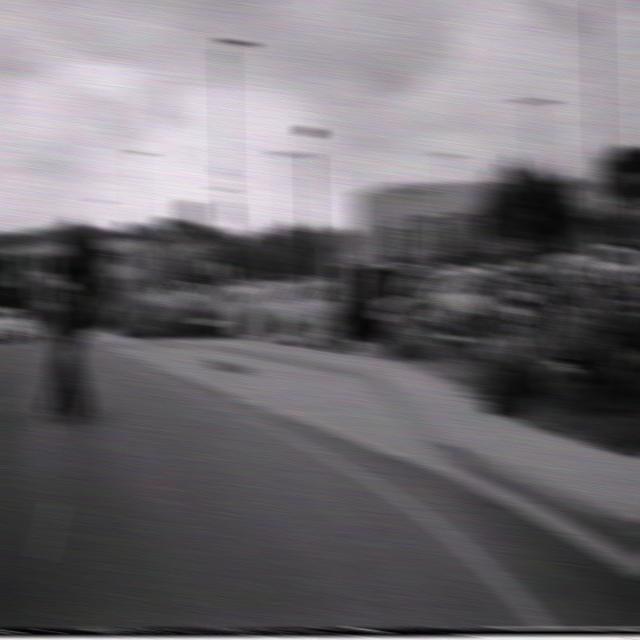stop: (347, 242, 368, 268), (105, 252, 126, 278)
